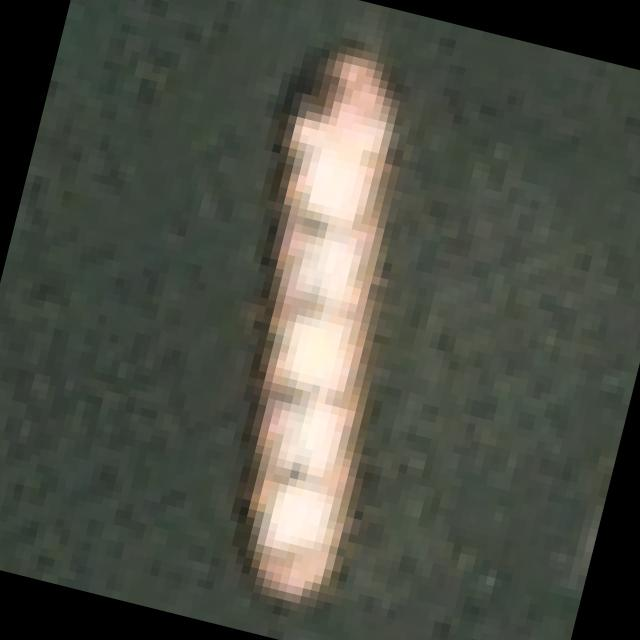ship: (140, 23, 516, 640)
